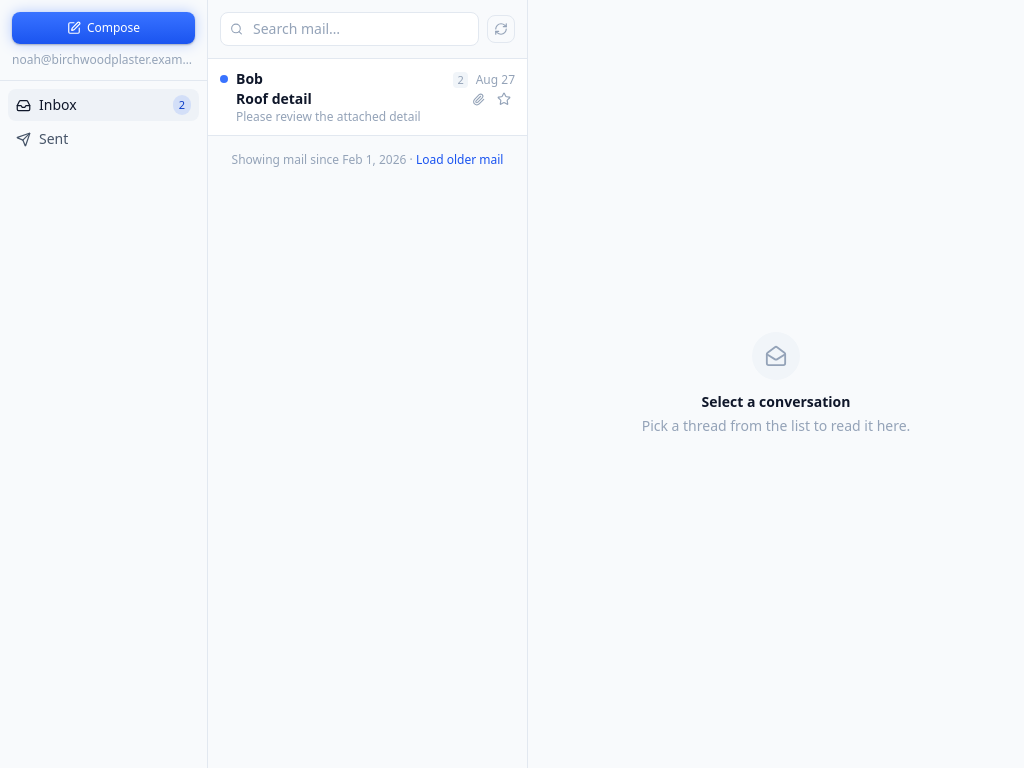
Test case: MailPage › routes Compose through the ?compose=1 URL flag and opens the modal composer
Expected: the text "Roof detail" is shown, left=236, top=89, right=312, bottom=108
Click the button "Compose".
click(104, 28)  # box left=12, top=12, right=195, bottom=44
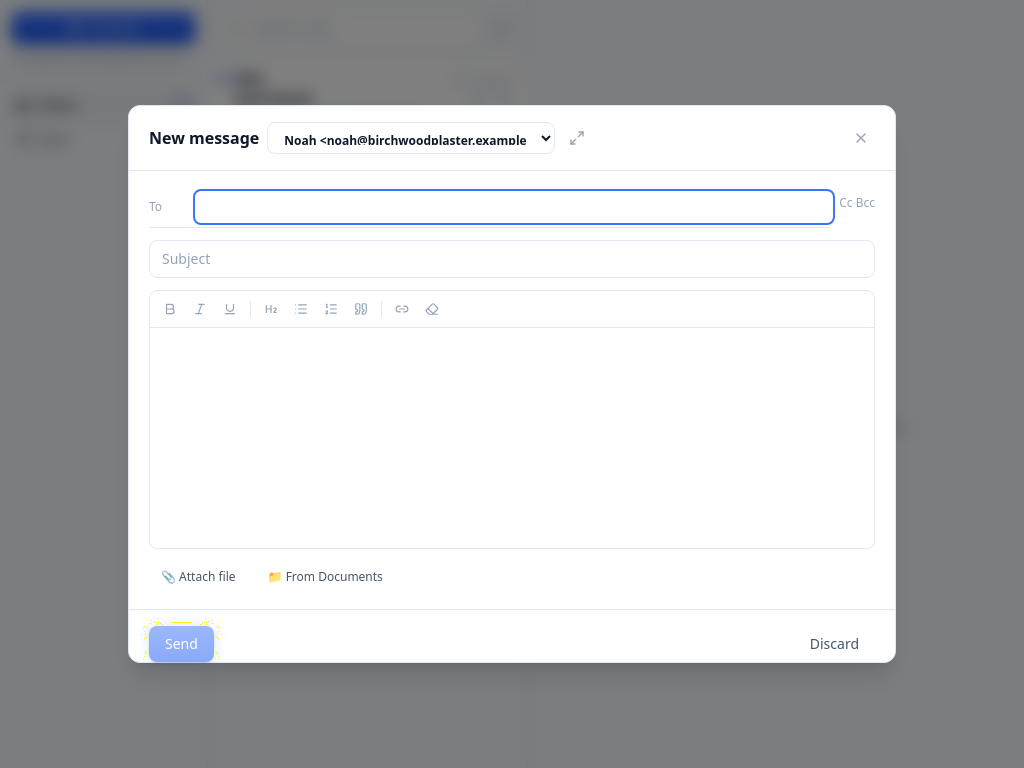
Now the dialog is shown, box left=128, top=105, right=896, bottom=663
Now the field labelled "Subject" is shown, box left=149, top=240, right=875, bottom=278
